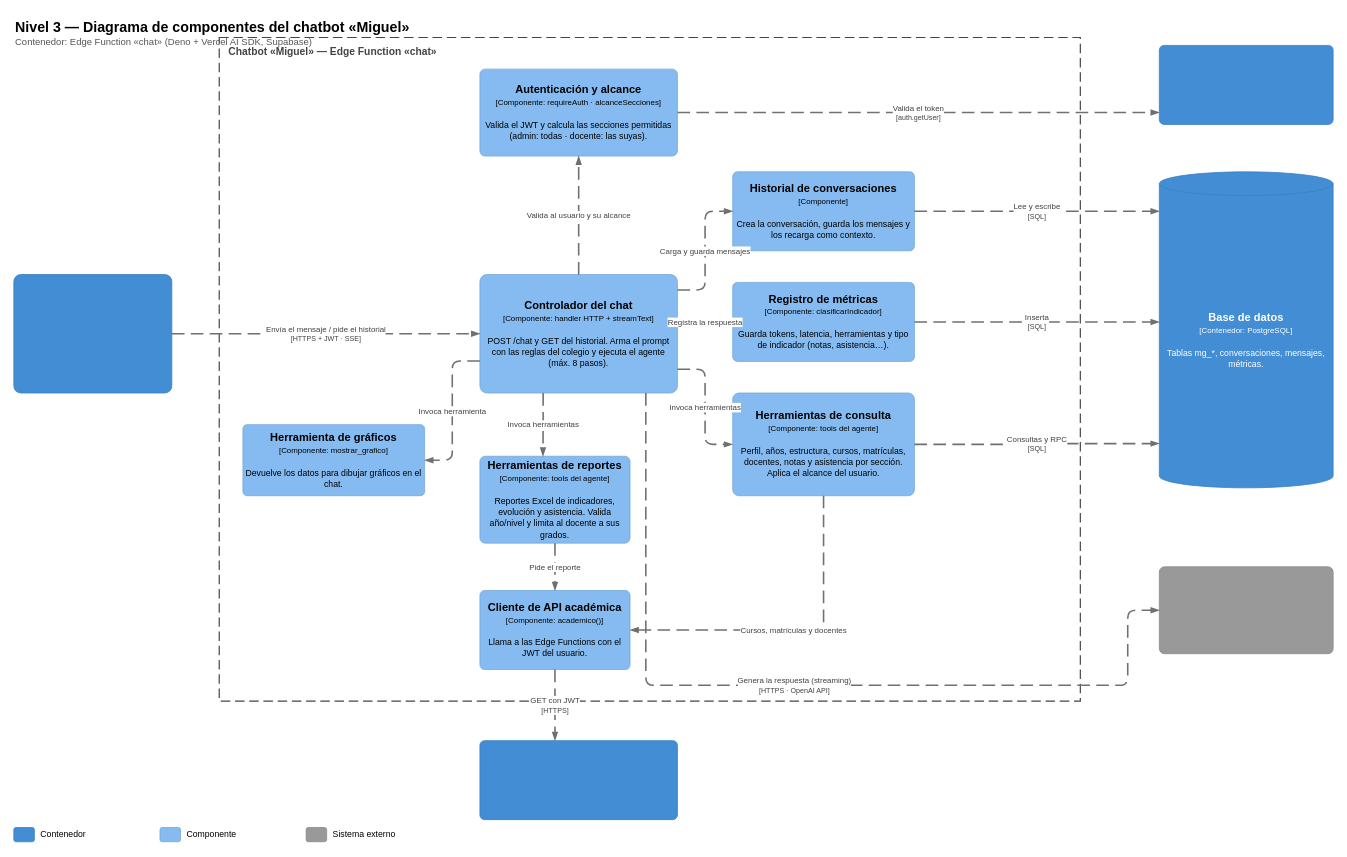
The diagram is 1347 pixels wide and 857 high, and some of its shapes have lost their labels. The shapes that lost their labels are listed below. From the top down, each one's centre as x and y in pixels, then its label:
At point 1246,84: "Supabase Auth [Contenedor] Valida el JWT.".
At point 92,333: "Aplicación web (SPA) [Contenedor: React + Vite] Interfaz del chat.".
At point 1246,610: "OpenAI API [Sistema externo] gpt-4.1-mini.".
At point 578,780: "API académica [Contenedor: Edge Functions] CRUD, notas y reportes.".
